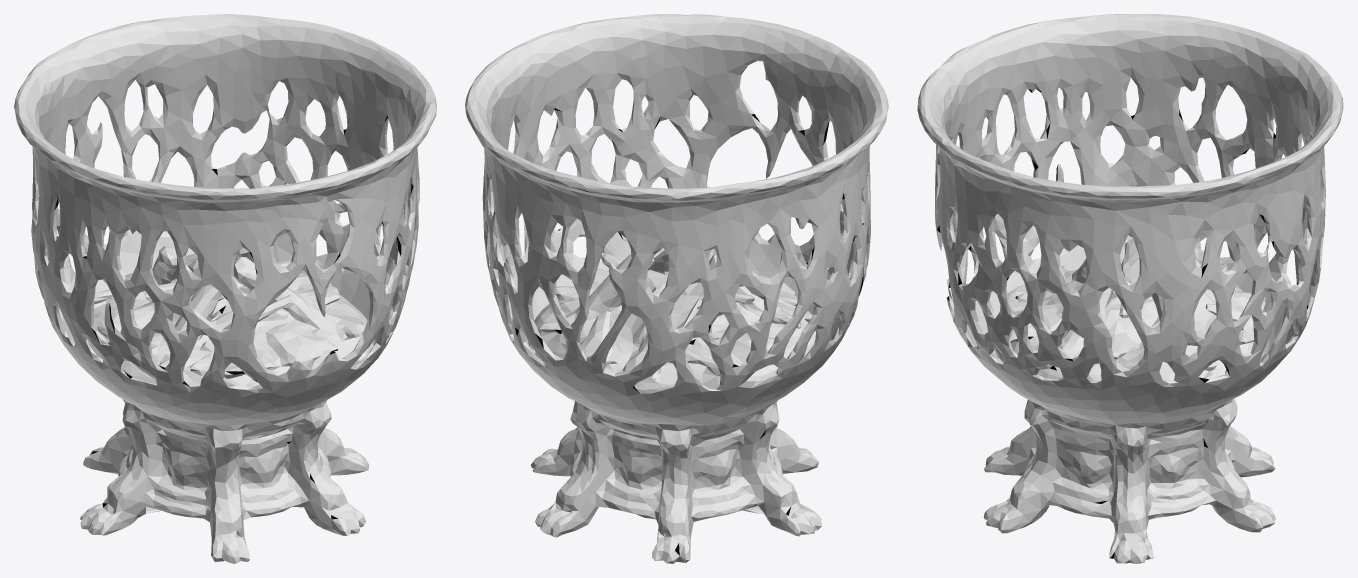
The model's file is orn_brazier01.glb.
The picture shows the model from 3 angles, left to right: view 1: azimuth 30°, elevation 25°; view 2: azimuth 150°, elevation 25°; view 3: azimuth 270°, elevation 25°; orthographic projection.
Parts seen in each view (by area): view 1: Low; view 2: Low; view 3: Low.
Part boxes in pixels (x1,y1,x2,y2): Low: (14, 14, 436, 563); Low: (465, 14, 888, 563); Low: (917, 14, 1343, 563).
Size of the model in its own units: 1.91 by 1.99 by 1.93.
1 material, 1 textured.
